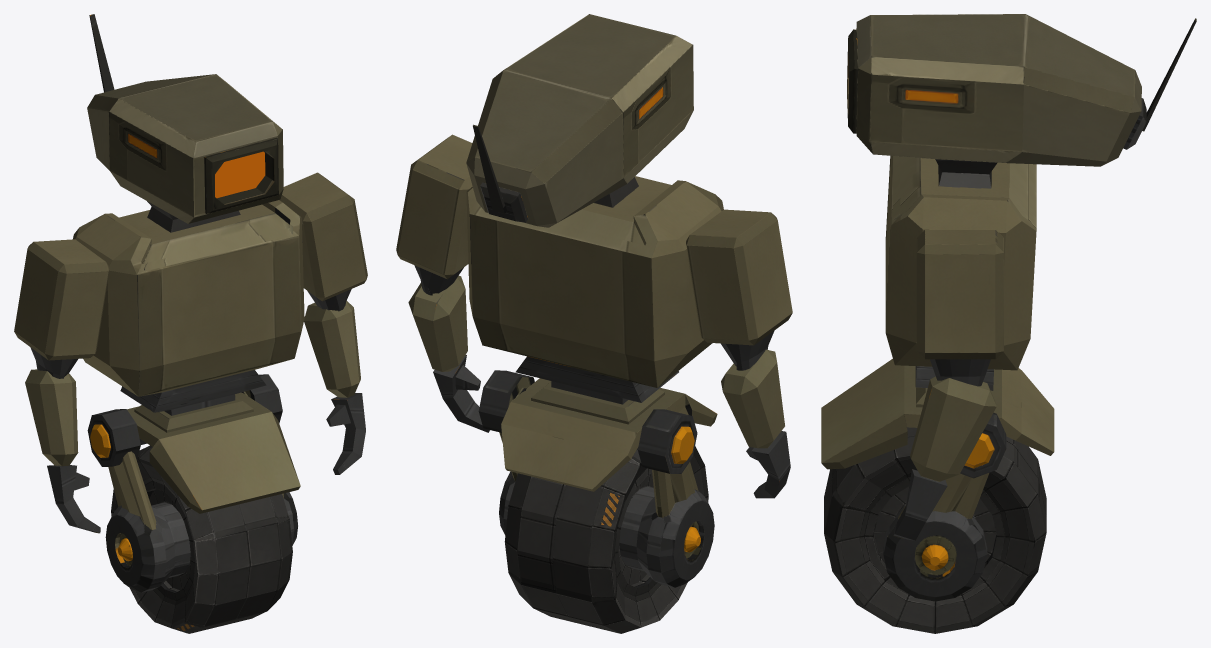
The model's file is Robot.fbx.
3 views of the same model, side by side, from view 1: azimuth 30°, elevation 25°; view 2: azimuth 150°, elevation 25°; view 3: azimuth 270°, elevation 25° (orthographic). The views are drawn at different scales.
Visible parts, largest first — view 1: Robot.002, Robot.001; view 2: Robot.002, Robot.001; view 3: Robot.002, Robot.001.
Boxes of the visible parts, x1,y1,x2,y2 form: Robot.002: (14,14,367,592); Robot.001: (111,445,292,633); Robot.002: (396,14,792,587); Robot.001: (504,446,708,633); Robot.002: (821,14,1196,601); Robot.001: (824,427,1046,633).
Bounding box in the file's own units: 428 × 660 × 375.
